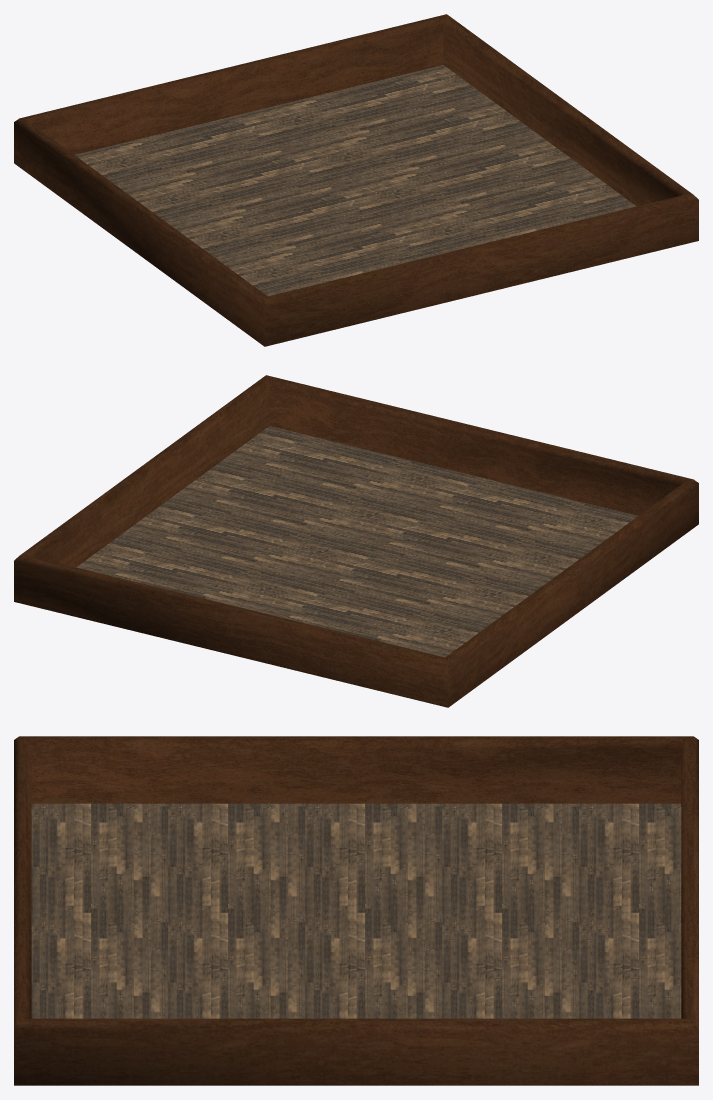
The model's file is place.glb.
3 renders of one model, top to bottom at view 1: azimuth 30°, elevation 25°; view 2: azimuth 150°, elevation 25°; view 3: azimuth 270°, elevation 25°, orthographic. The views are drawn at different scales.
Visible parts, largest first — view 1: Plane; view 2: Plane; view 3: Plane.
Boxes of the visible parts, x1,y1,x2,y2 form: Plane: (14, 14, 698, 346); Plane: (14, 375, 698, 707); Plane: (14, 736, 698, 1085).
Size of the model in its own units: 11.92 by 1.19 by 11.92.
2 materials, 2 textured.
